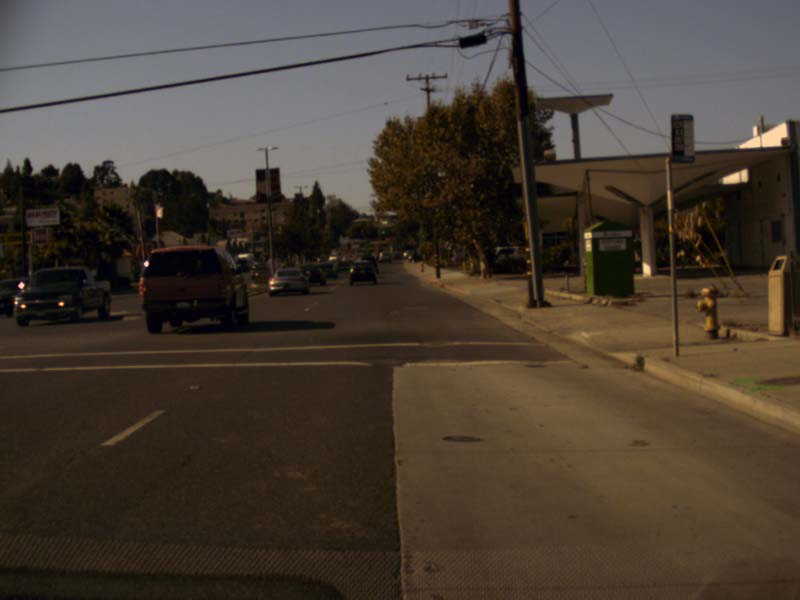Green: (378, 223, 387, 240)
